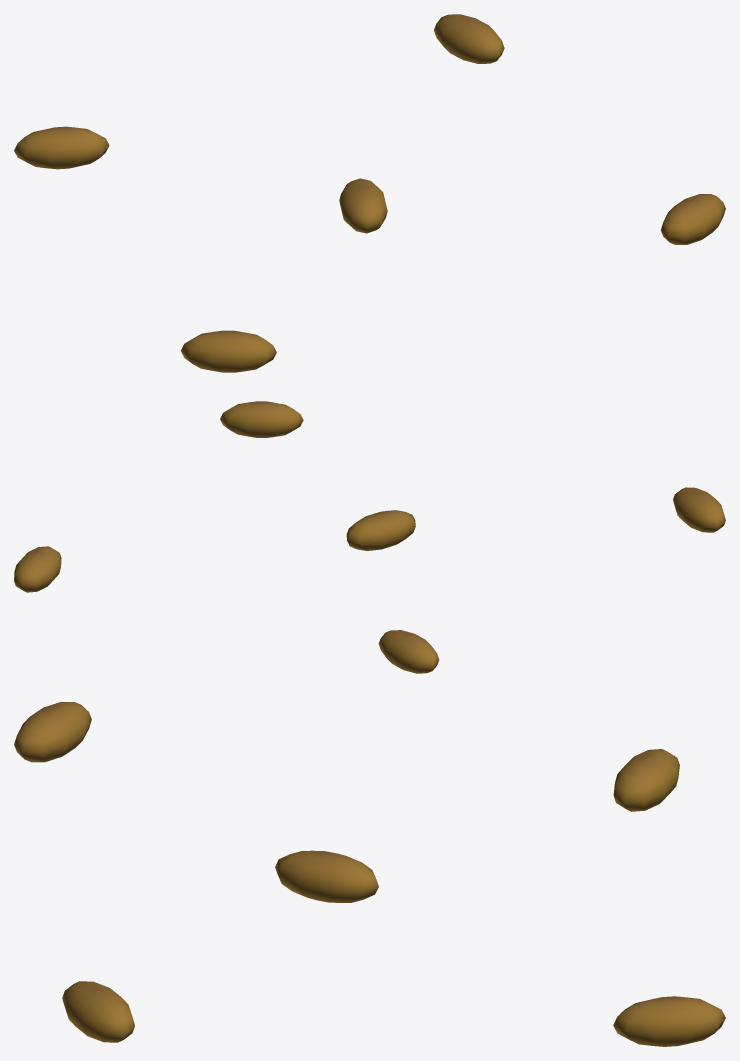
File: rose_seed.glb
The picture shows the model from 3 angles, top to bottom: view 1: azimuth 30°, elevation 25°; view 2: azimuth 150°, elevation 25°; view 3: azimuth 270°, elevation 25°; orthographic projection. The views are drawn at different scales.
Visible parts, largest first — view 1: seeds; view 2: seeds; view 3: seeds.
Boxes of the visible parts, box(x1,y1,x2,y2) form: seeds: box(14, 14, 725, 372); seeds: box(14, 401, 725, 673); seeds: box(14, 702, 725, 1046).
Size of the model in its own units: 0.334 by 0.0215 by 0.3118.
